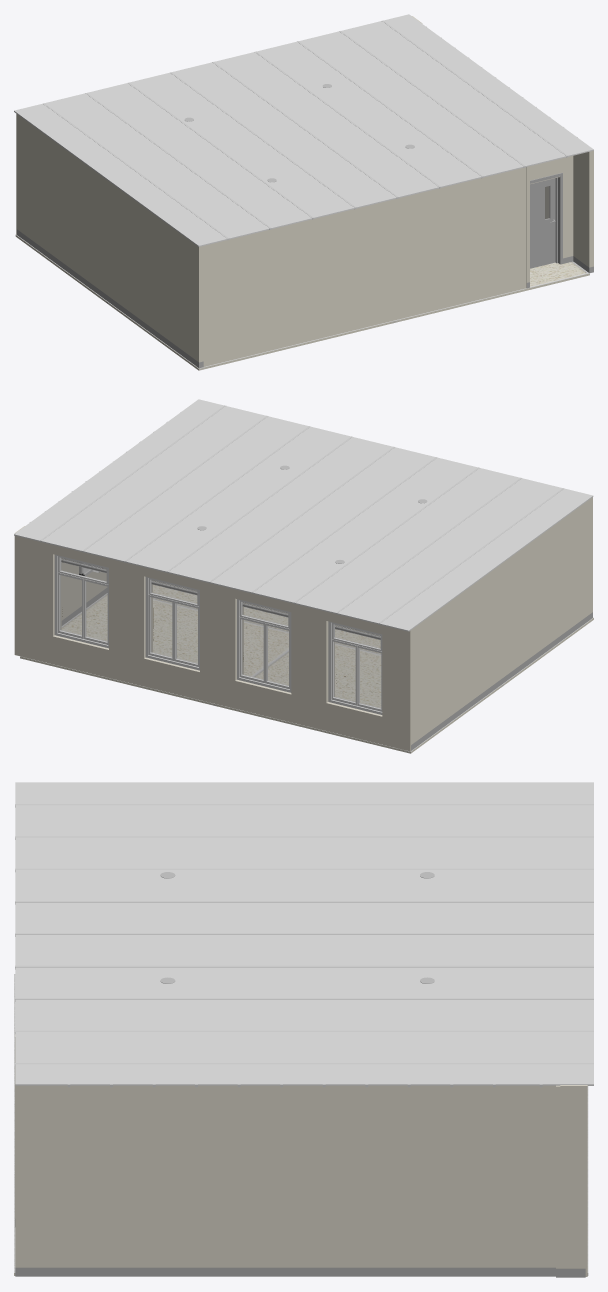
The model's file is Salon v2.fbx.
3 renders of one model, top to bottom at view 1: azimuth 30°, elevation 25°; view 2: azimuth 150°, elevation 25°; view 3: azimuth 270°, elevation 25°, orthographic. The views are drawn at different scales.
Visible parts, largest first — view 1: salon:Ceiling, salon:Wall___2, salon:Wall___3, salon:Wall___1, salon:Floor, salon:door, salon:frame___door; view 2: salon:Ceiling, salon:Wall___4, salon:Wall___3, salon:Floor, salon:Window___1, salon:Window___1____3_, salon:Window___1____1_, salon:Window___1____2_, salon:Wall___1; view 3: salon:Ceiling, salon:Wall___1, salon:Floor.
Boxes of the visible parts, <box> form: salon:Ceiling: <box>14,14,593,246</box>; salon:Wall___2: <box>203,167,526,366</box>; salon:Wall___3: <box>17,114,203,368</box>; salon:Wall___1: <box>421,22,593,288</box>; salon:Floor: <box>15,234,589,370</box>; salon:door: <box>530,178,555,268</box>; salon:frame___door: <box>530,172,562,264</box>; salon:Ceiling: <box>14,399,593,631</box>; salon:Wall___4: <box>14,527,410,751</box>; salon:Wall___3: <box>411,497,592,750</box>; salon:Floor: <box>20,581,593,753</box>; salon:Window___1: <box>328,621,382,714</box>; salon:Window___1____3_: <box>54,554,108,648</box>; salon:Window___1____1_: <box>237,599,291,692</box>; salon:Window___1____2_: <box>145,577,199,670</box>; salon:Wall___1: <box>24,526,107,625</box>; salon:Ceiling: <box>15,782,593,1087</box>; salon:Wall___1: <box>15,1034,585,1277</box>; salon:Floor: <box>14,974,588,1275</box>.
Bounding box in the file's own units: 1913 × 574 × 1546.
